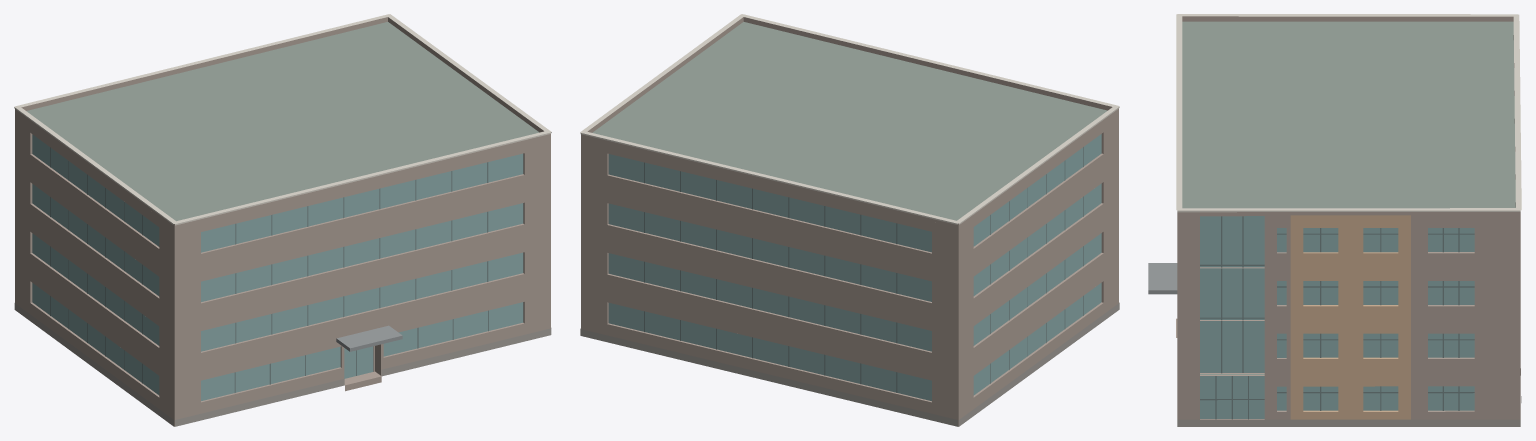
3 views of the same model, side by side, from view 1: azimuth 30°, elevation 25°; view 2: azimuth 150°, elevation 25°; view 3: azimuth 270°, elevation 25° (orthographic). The views are drawn at different scales.
Parts seen in each view (by area): view 1: b743648661__wall, b743648661__roof, b743648661__glass, b743648661__trim, b743648661__parapet, b743648661__base, b743648661__frame, b743648661__canopy; view 2: b743648661__wall, b743648661__roof, b743648661__glass, b743648661__trim, b743648661__parapet, b743648661__base, b743648661__frame; view 3: b743648661__roof, b743648661__wall, b743648661__glass, b743648661__wall2, b743648661__trim, b743648661__parapet, b743648661__frame, b743648661__base, b743648661__canopy.
Boxes of the visible parts, x1,y1,x2,y2 form: b743648661__wall: [15, 112, 550, 426]; b743648661__roof: [26, 22, 539, 426]; b743648661__glass: [32, 134, 523, 400]; b743648661__trim: [14, 14, 551, 225]; b743648661__parapet: [15, 17, 550, 228]; b743648661__base: [14, 303, 551, 426]; b743648661__frame: [50, 147, 488, 392]; b743648661__canopy: [336, 325, 402, 351]; b743648661__wall: [581, 111, 1118, 426]; b743648661__roof: [592, 22, 1107, 426]; b743648661__glass: [608, 134, 1101, 401]; b743648661__trim: [580, 14, 1119, 224]; b743648661__parapet: [581, 17, 1118, 228]; b743648661__base: [580, 302, 1119, 426]; b743648661__frame: [644, 147, 1083, 392]; b743648661__roof: [1182, 21, 1515, 374]; b743648661__wall: [1177, 215, 1520, 419]; b743648661__glass: [1200, 216, 1474, 418]; b743648661__wall2: [1290, 215, 1410, 419]; b743648661__trim: [1176, 14, 1521, 212]; b743648661__parapet: [1177, 16, 1520, 215]; b743648661__frame: [1200, 216, 1474, 419]; b743648661__base: [1177, 368, 1521, 426]; b743648661__canopy: [1148, 263, 1177, 294].
Size of the model in its own units: 28.76 by 15.15 by 23.07.
